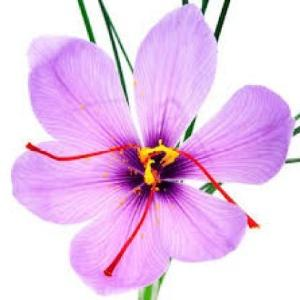Saffron: (16, 5, 294, 294)
